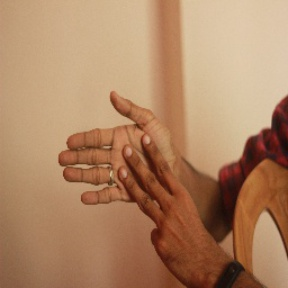M: (57, 86, 191, 230)
